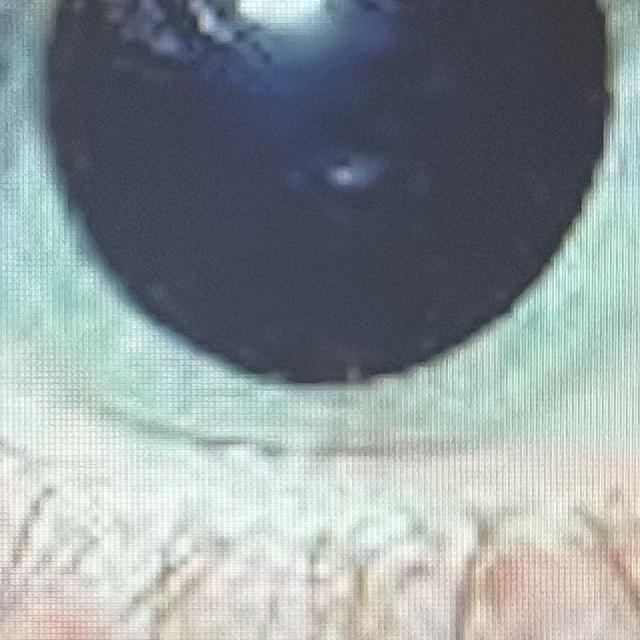eye: (0, 0, 640, 464)
iris: (0, 0, 640, 447)
